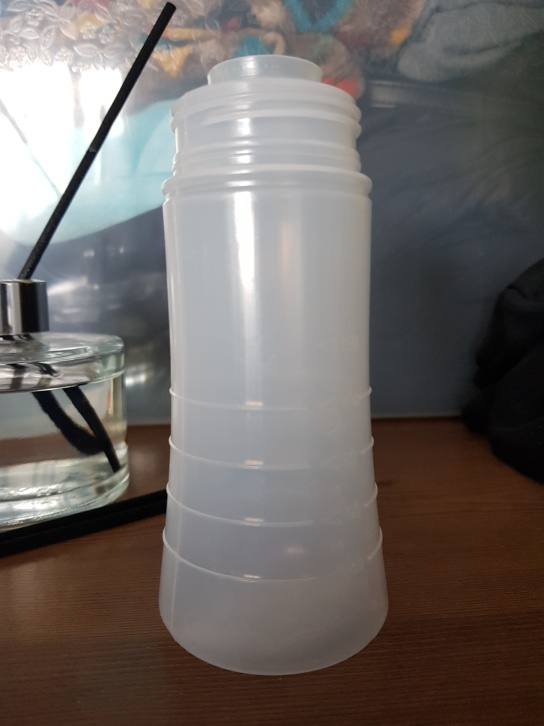Plastic: (155, 51, 391, 681)
